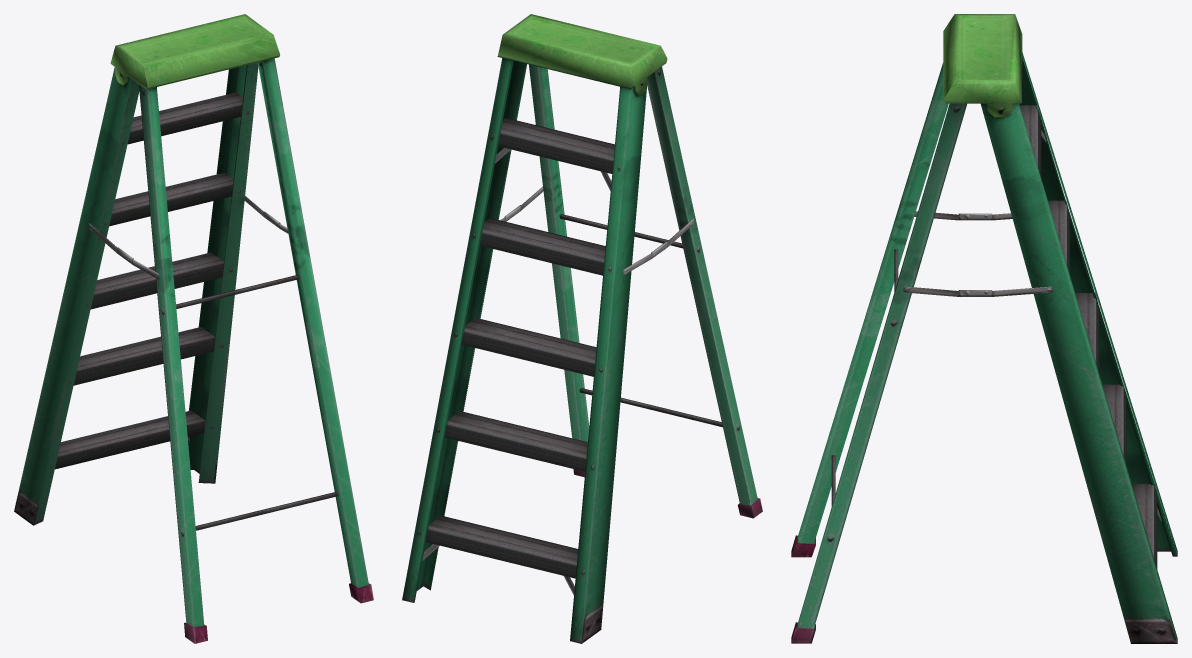
Rendered from Ladder_03.glb.
The picture shows the model from 3 angles, left to right: view 1: azimuth 30°, elevation 25°; view 2: azimuth 150°, elevation 25°; view 3: azimuth 270°, elevation 25°; orthographic projection. The views are drawn at different scales.
Parts seen in each view (by area): view 1: Ladder_03; view 2: Ladder_03; view 3: Ladder_03.
Part boxes in pixels (<box>): Ladder_03: <box>14,14,373,643</box>; Ladder_03: <box>402,14,762,643</box>; Ladder_03: <box>791,14,1177,643</box>.
Bounding box in the file's own units: 0.9494 × 2.6 × 1.65.
1 material, 1 textured.
